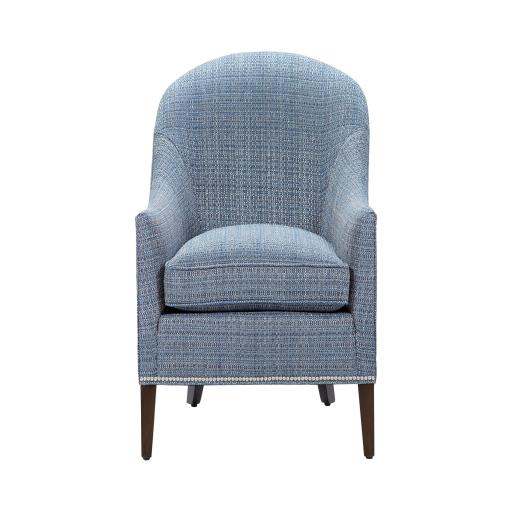chair: (134, 51, 376, 461)
